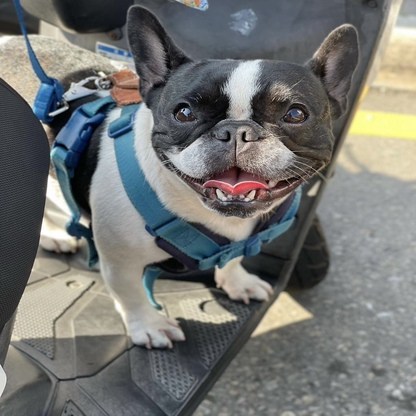bulldog: (26, 4, 366, 350)
